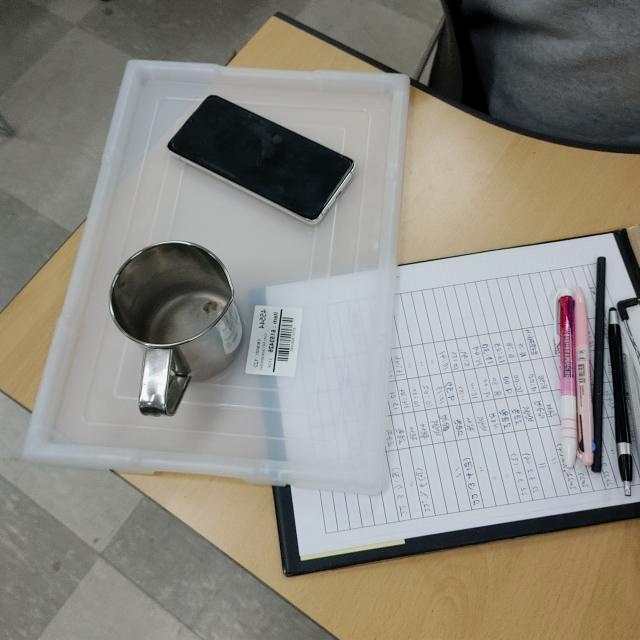cup: (108, 240, 244, 422)
phone: (169, 92, 359, 224)
